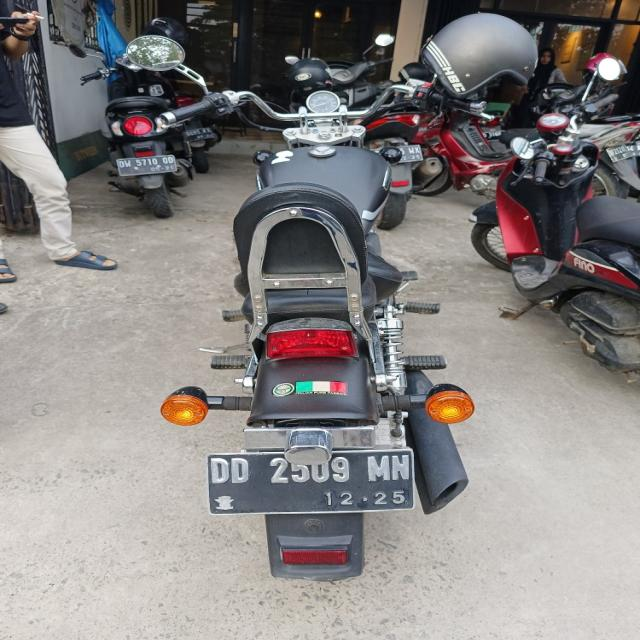plates: (192, 450, 427, 512)
